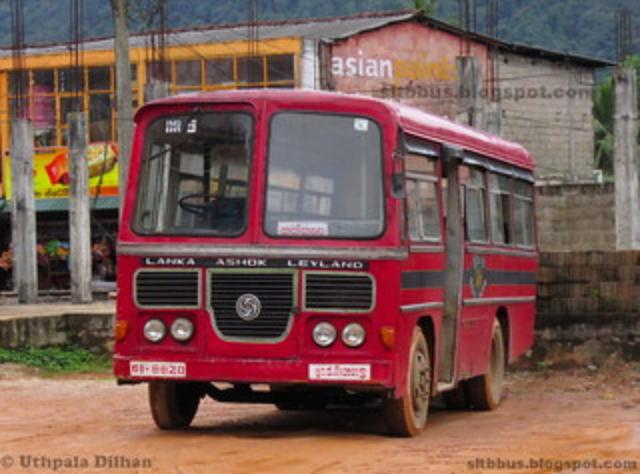bus: (110, 90, 542, 438)
